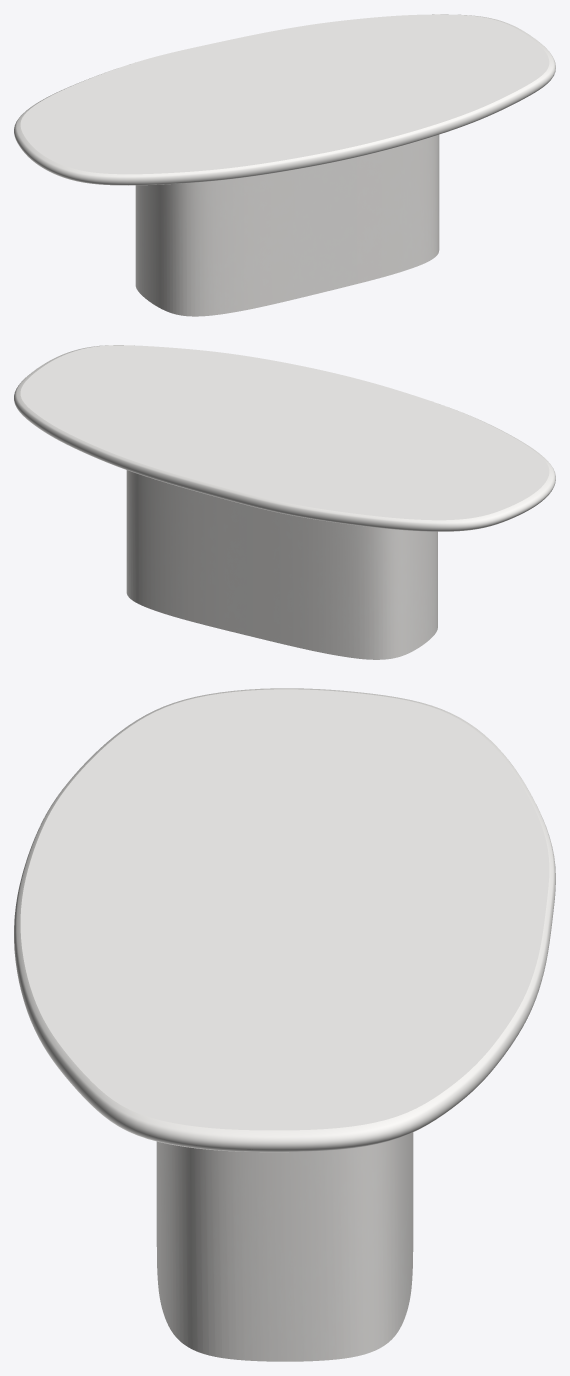
File: purewhite_danish_round_fixed.glb
3 views of the same model, one above another, from view 1: azimuth 30°, elevation 25°; view 2: azimuth 150°, elevation 25°; view 3: azimuth 270°, elevation 25° (orthographic). The views are drawn at different scales.
Visible parts, largest first — view 1: round_danish, fixed; view 2: round_danish, fixed; view 3: round_danish, fixed.
Boxes of the visible parts, x1,y1,x2,y2 form: round_danish: (14,14,555,185); fixed: (135,134,439,316); round_danish: (14,345,555,531); fixed: (126,470,437,659); round_danish: (14,688,555,1152); fixed: (156,1132,413,1361).
Bounding box in the file's own units: 7.5 × 2.5 × 3.8.
Materials: 1 (1 with a texture image).
